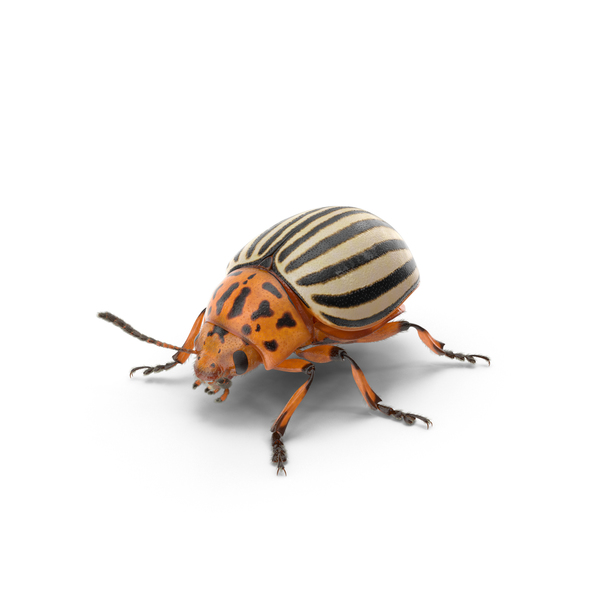hrosc: (177, 203, 470, 430)
